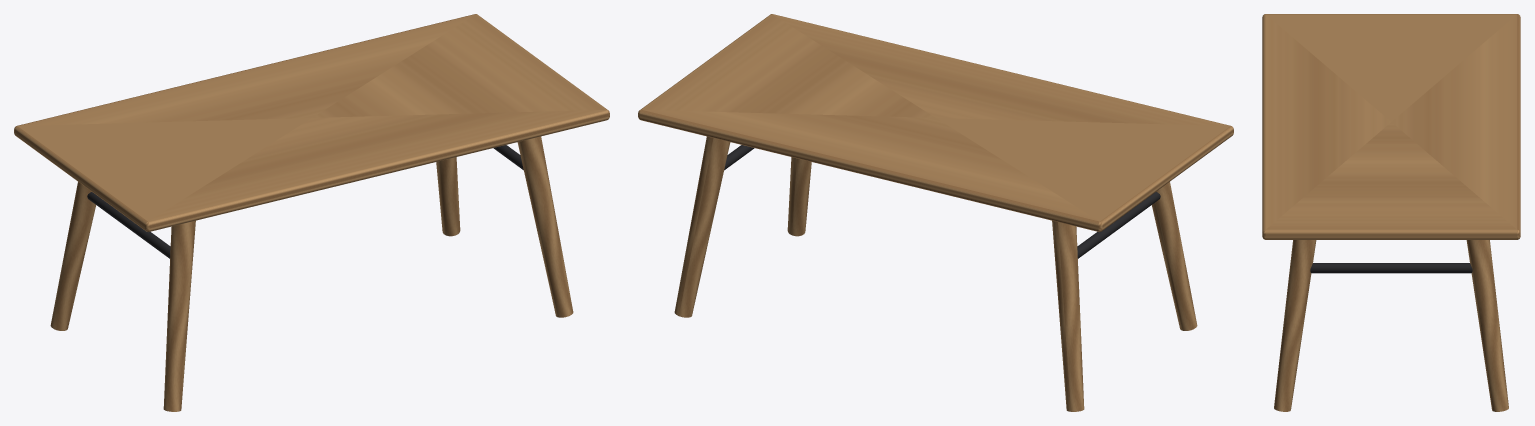
File: obj_birim_dining_table_1800.glb
The picture shows the model from 3 angles, left to right: view 1: azimuth 30°, elevation 25°; view 2: azimuth 150°, elevation 25°; view 3: azimuth 270°, elevation 25°; orthographic projection. The views are drawn at different scales.
Visible parts, largest first — view 1: obj_birim_dining_table_1800; view 2: obj_birim_dining_table_1800; view 3: obj_birim_dining_table_1800.
Boxes of the visible parts, bbox=[...] form: obj_birim_dining_table_1800: bbox=[14, 14, 609, 411]; obj_birim_dining_table_1800: bbox=[638, 14, 1233, 411]; obj_birim_dining_table_1800: bbox=[1262, 14, 1520, 411].
Bounding box in the file's own units: 1.8 × 0.7556 × 0.9.
Materials: 2 (1 with a texture image).
